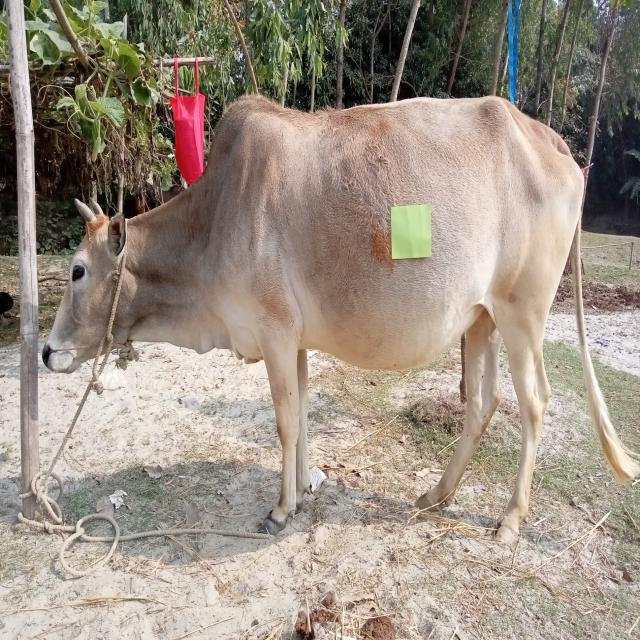badan_sapi: (226, 100, 580, 371)
sapi: (38, 87, 638, 537)
